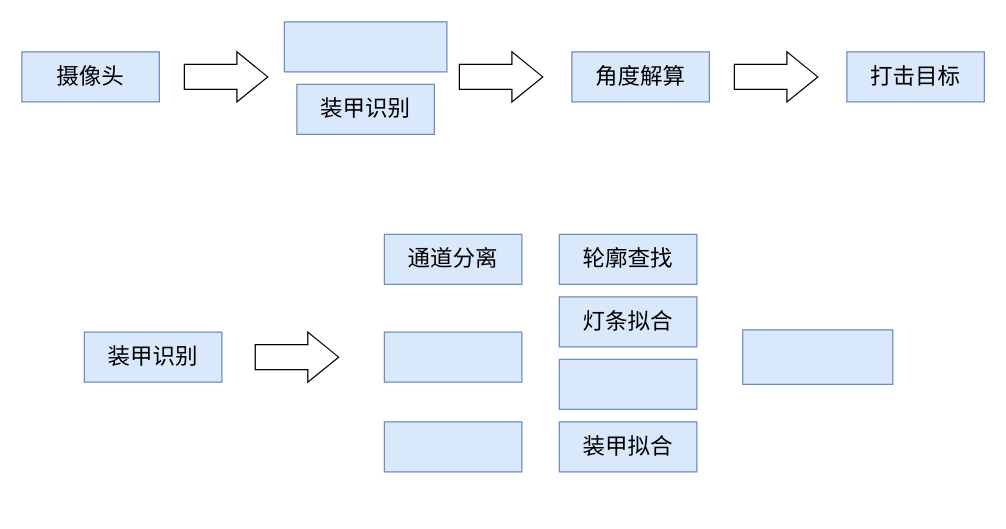
Image size: 1006x529. Some labels were removed from this diagram. Each missing label, with the centre of its shape:
"PNP姿态解算" goes at (x=817, y=356).
"二值化" goes at (x=452, y=446).
"滤波去噪" goes at (x=452, y=356).
"灯条筛选" goes at (x=627, y=383).
"能量机关识别" goes at (x=365, y=46).
